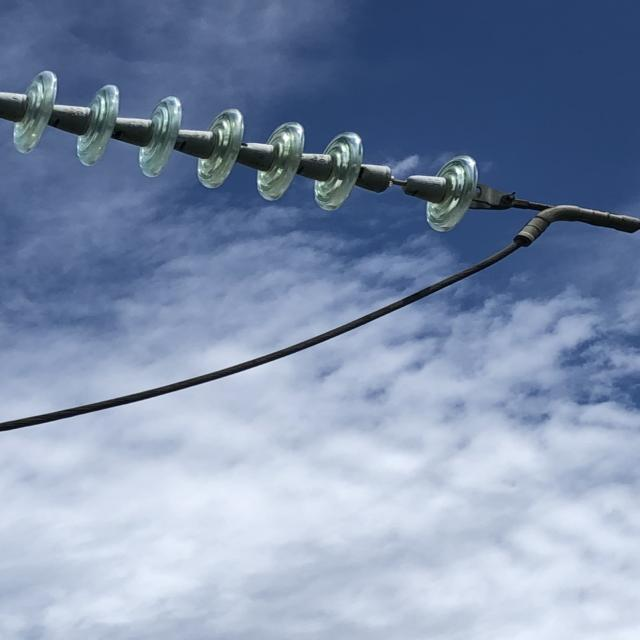正常电缆: (0, 218, 556, 457)
正常绝缘子: (0, 52, 517, 254)
绝缘子破损: (378, 163, 423, 200)
